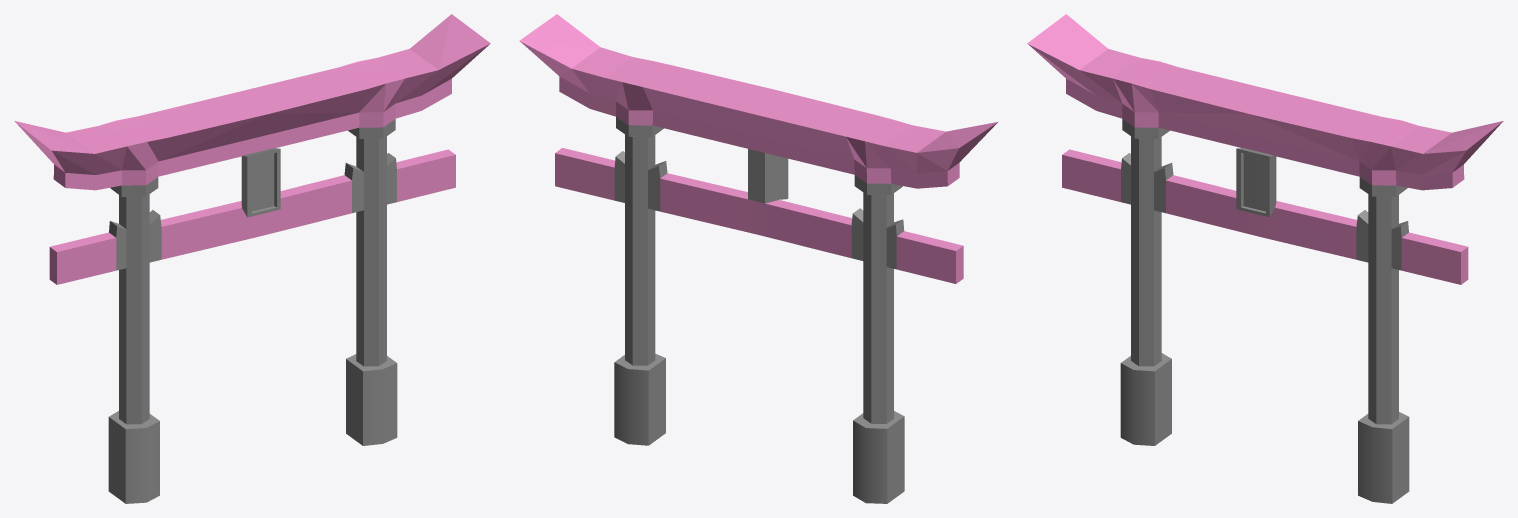
The model's file is torri_2 alt.FBX.
3 views of the same model, side by side, from view 1: azimuth 30°, elevation 25°; view 2: azimuth 150°, elevation 25°; view 3: azimuth 330°, elevation 25° (orthographic).
Visible parts, largest first — view 1: Box002; view 2: Box002; view 3: Box002.
Part boxes in pixels (x1,y1,x2,y2): Box002: (14, 14, 490, 503); Box002: (519, 14, 997, 503); Box002: (1027, 14, 1503, 503).
Bounding box in the file's own units: 359 × 299 × 54.36.
